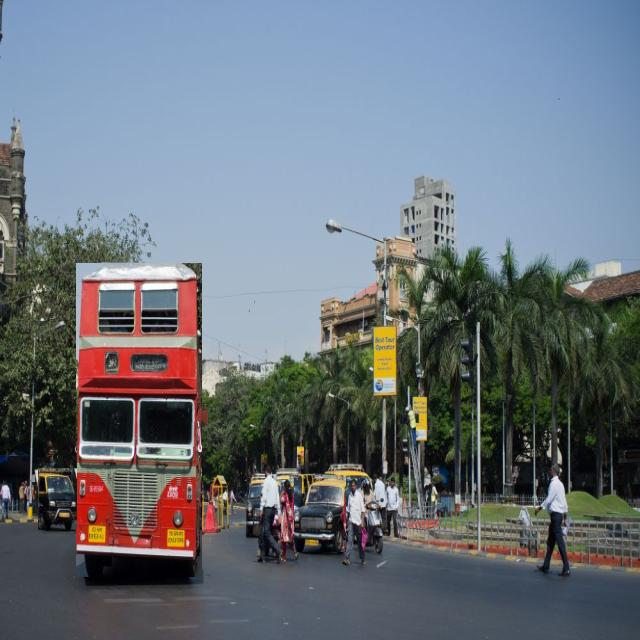bus: (76, 263, 202, 577)
car: (294, 476, 346, 552), (39, 469, 77, 530)
motorcycle: (361, 478, 382, 553)
